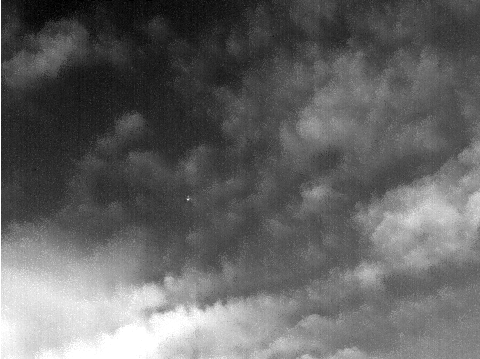dim target: (185, 195, 192, 202)
